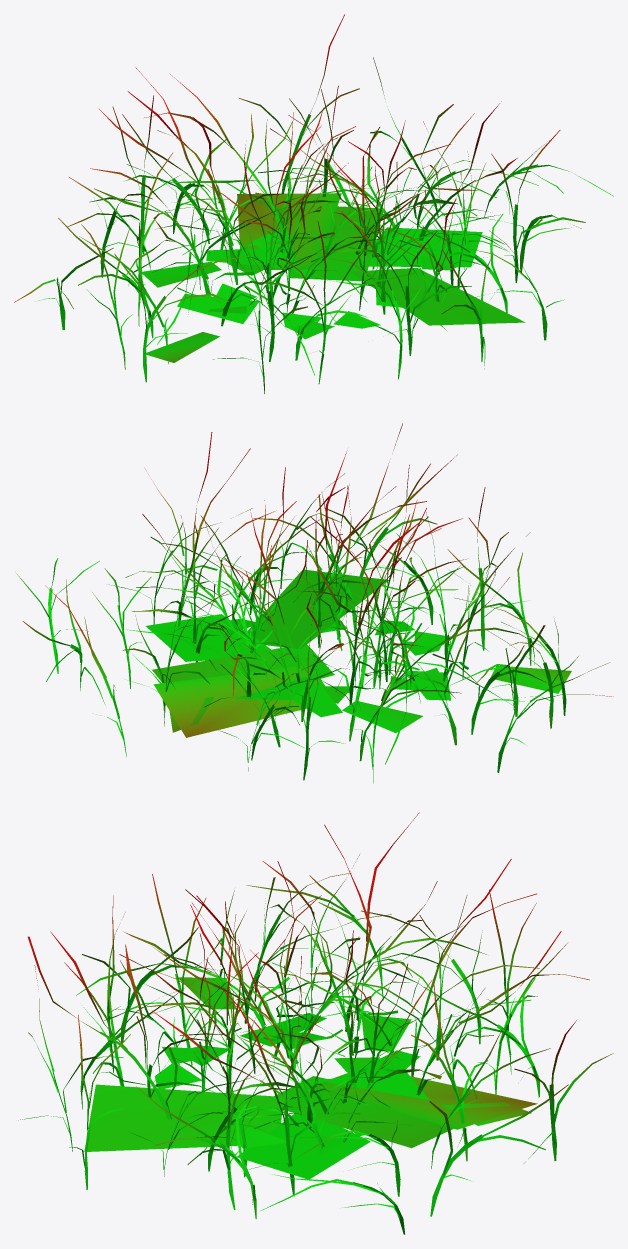
Rendered from Kikuyu Grass_LOD3_Var6_wiljearqx.fbx.
3 renders of one model, top to bottom at view 1: azimuth 30°, elevation 25°; view 2: azimuth 150°, elevation 25°; view 3: azimuth 270°, elevation 25°, orthographic. The views are drawn at different scales.
Visible parts, largest first — view 1: _tkg6_Var6_LOD3; view 2: _tkg6_Var6_LOD3; view 3: _tkg6_Var6_LOD3.
Boxes of the visible parts, x1,y1,x2,y2 form: _tkg6_Var6_LOD3: (14, 14, 613, 393); _tkg6_Var6_LOD3: (16, 423, 613, 783); _tkg6_Var6_LOD3: (18, 812, 613, 1234).
Size of the model in its own units: 89.06 by 31.43 by 71.58.
